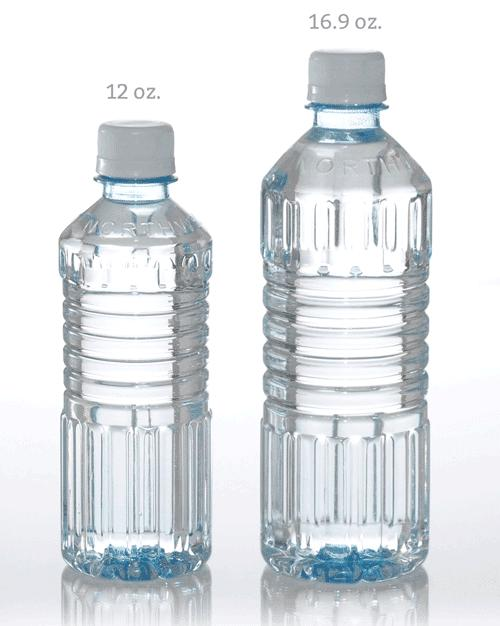bottle: (49, 38, 447, 567), (2, 115, 197, 569)
